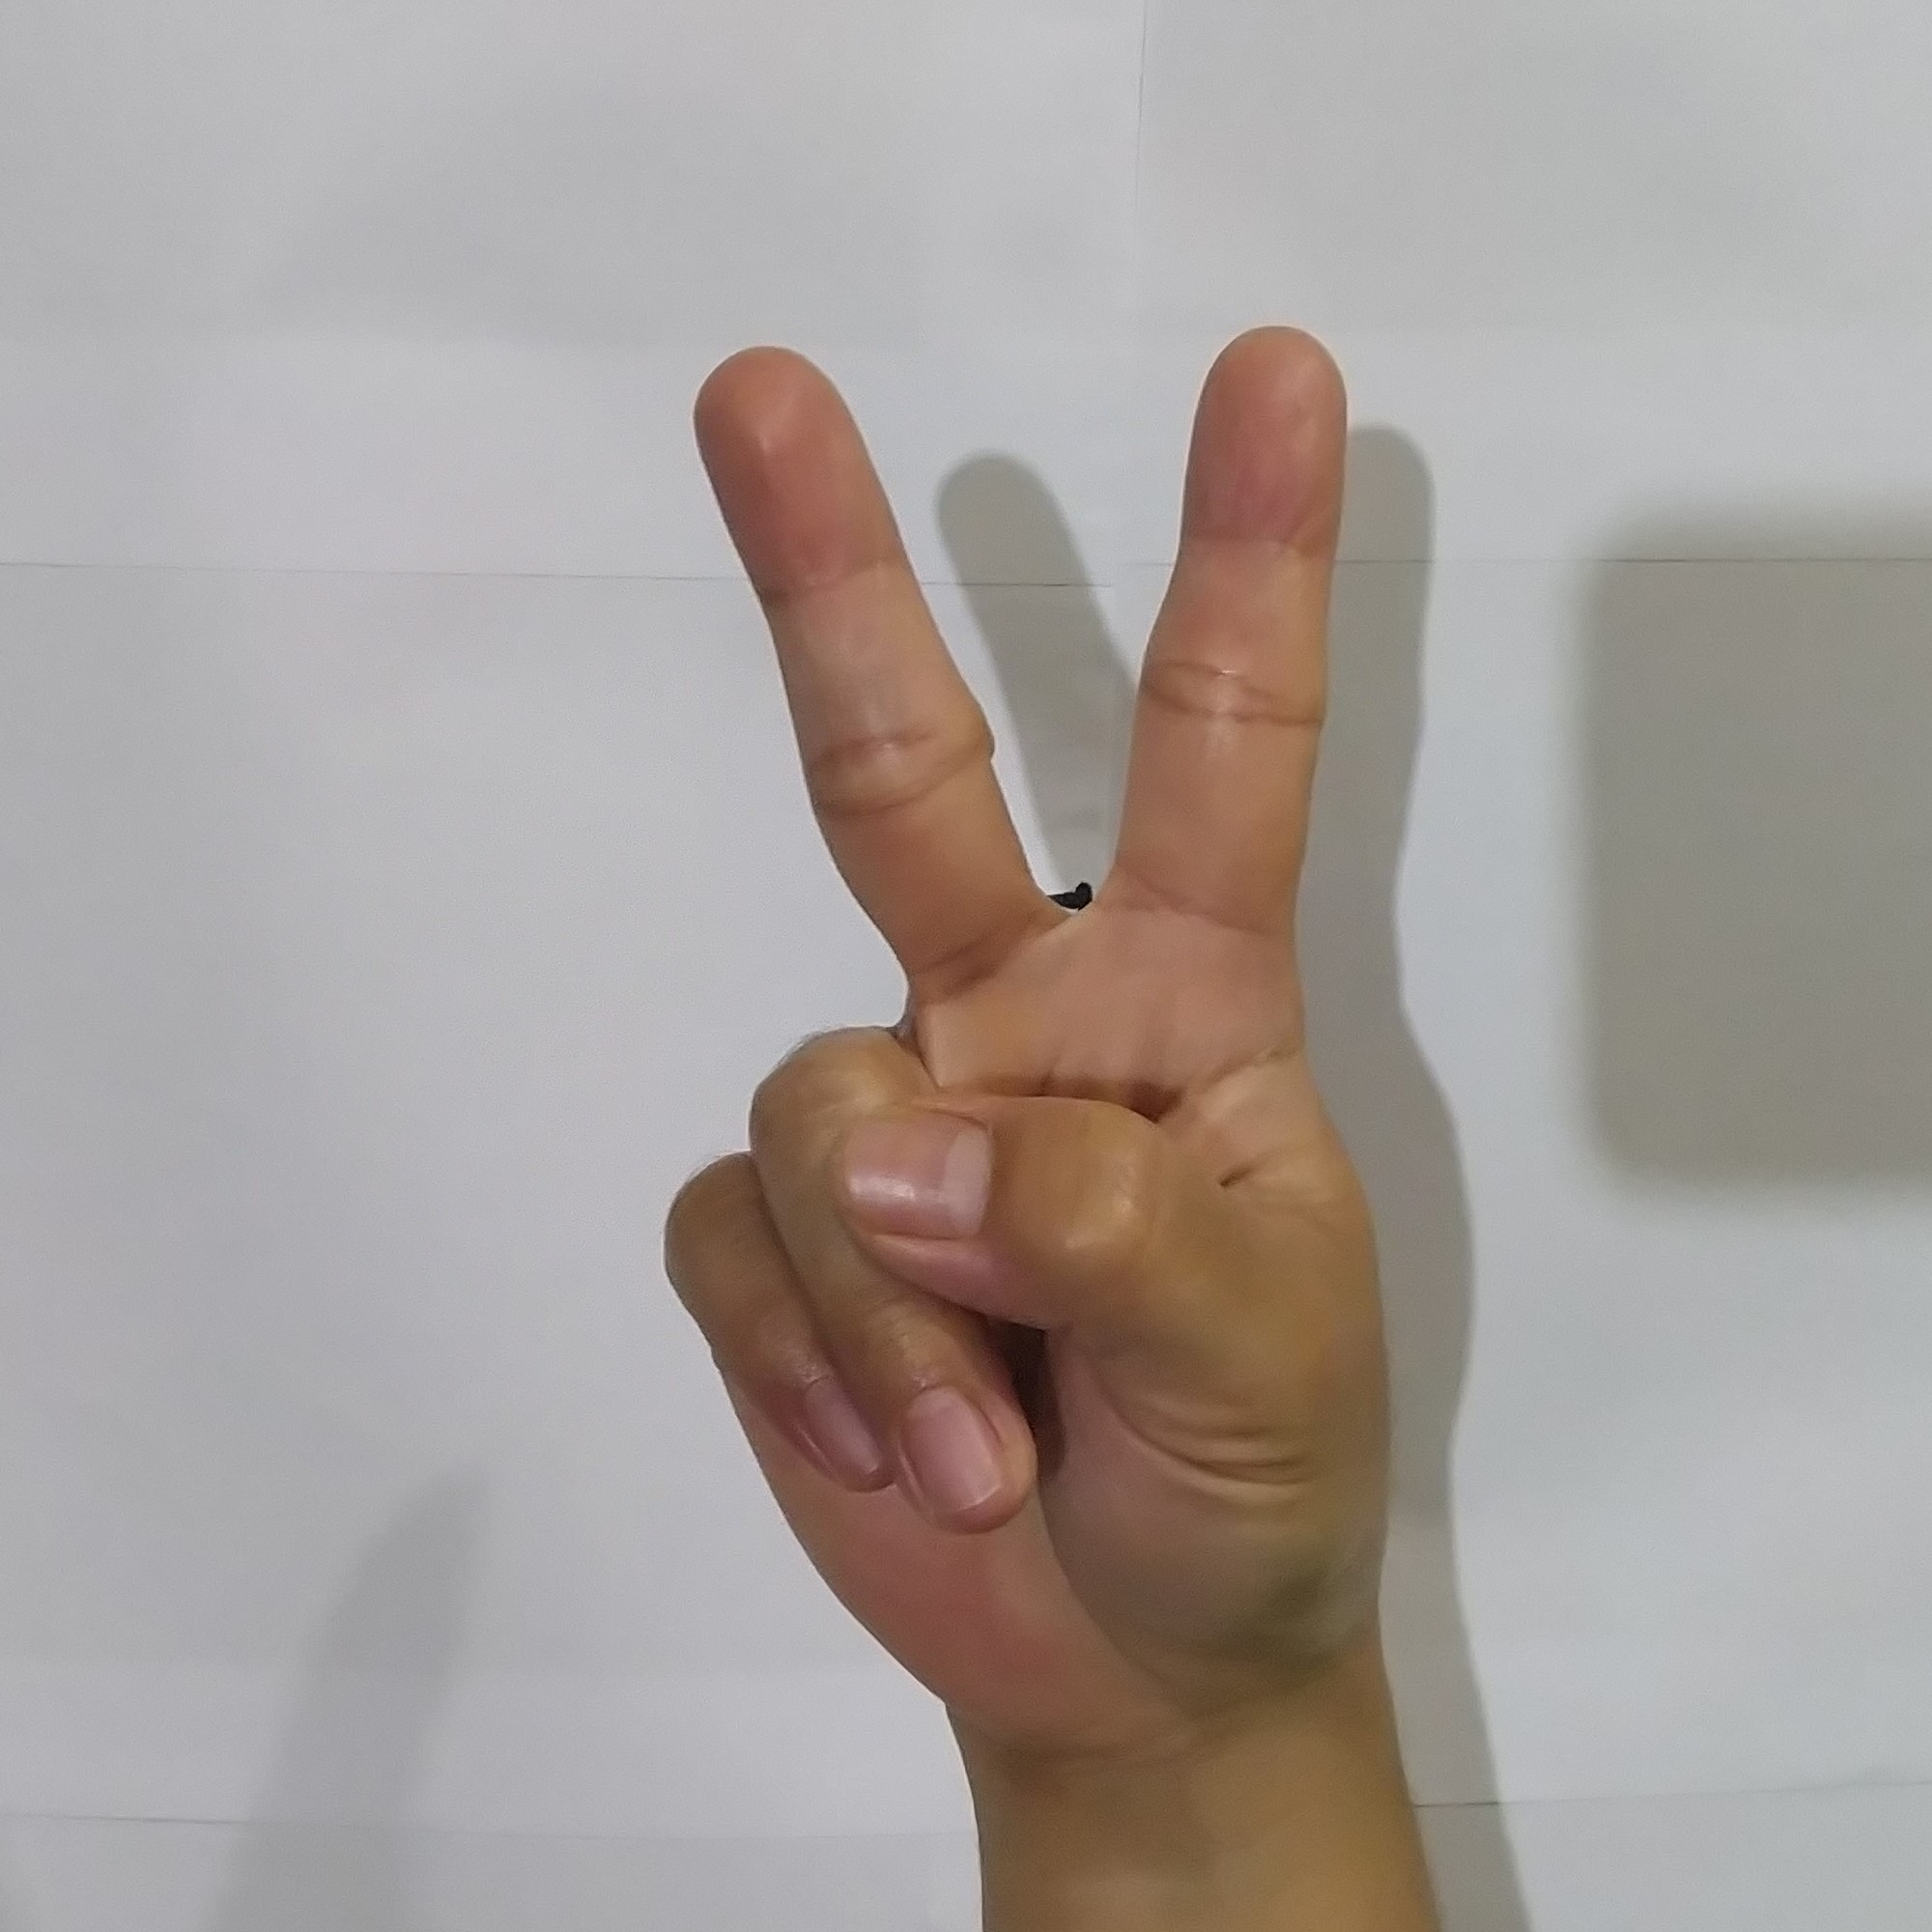V: (619, 287, 1430, 1723)
